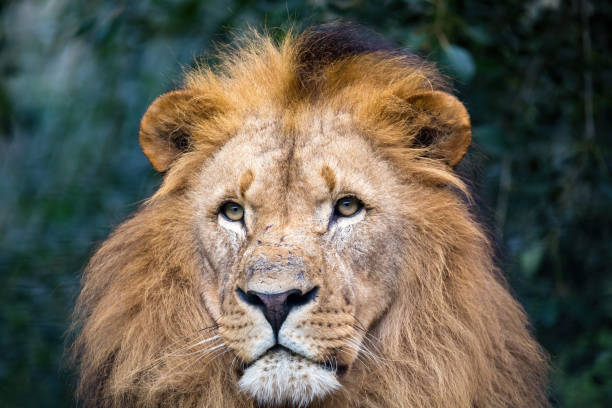lion: (53, 7, 561, 408)
